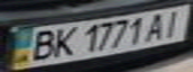1: (78, 20, 100, 53), (127, 14, 148, 45)
7: (93, 19, 115, 52), (112, 17, 133, 48)
A: (142, 10, 172, 42)
B: (24, 28, 60, 62)
I: (157, 7, 190, 38)
K: (48, 25, 81, 57)
